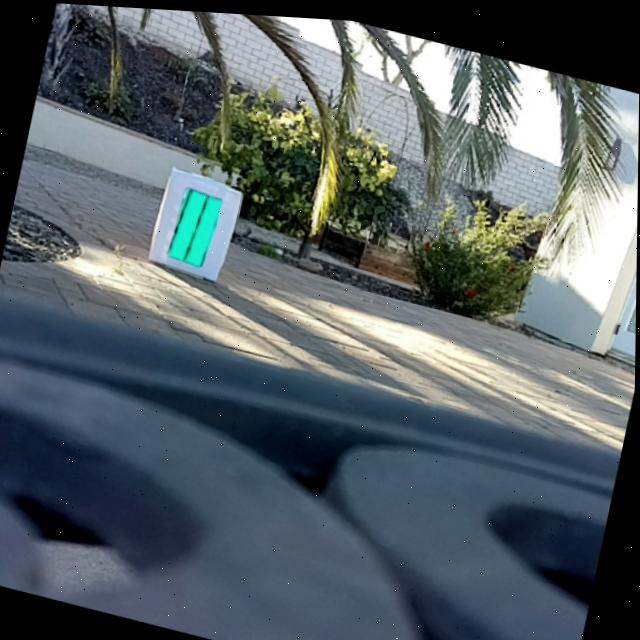led: (167, 183, 223, 266)
